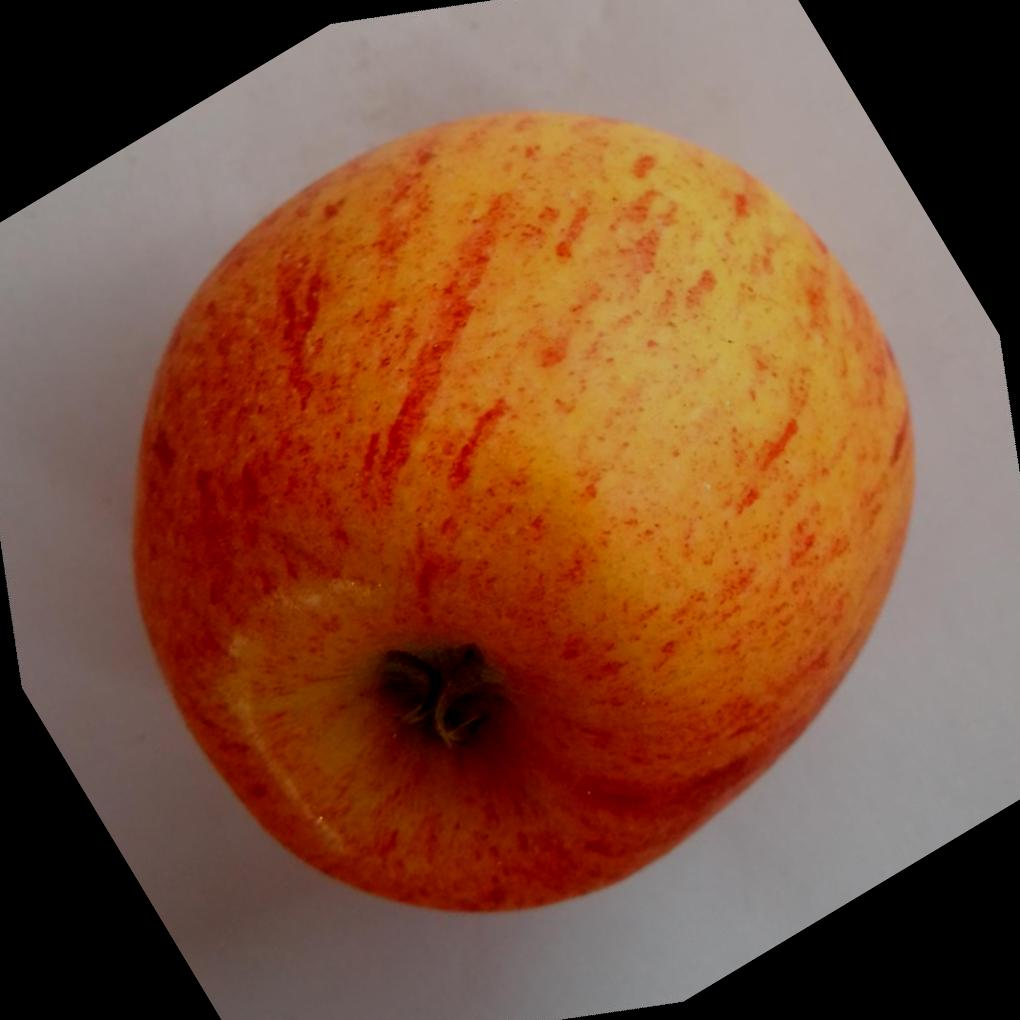FreshGuava: (130, 110, 918, 919)
